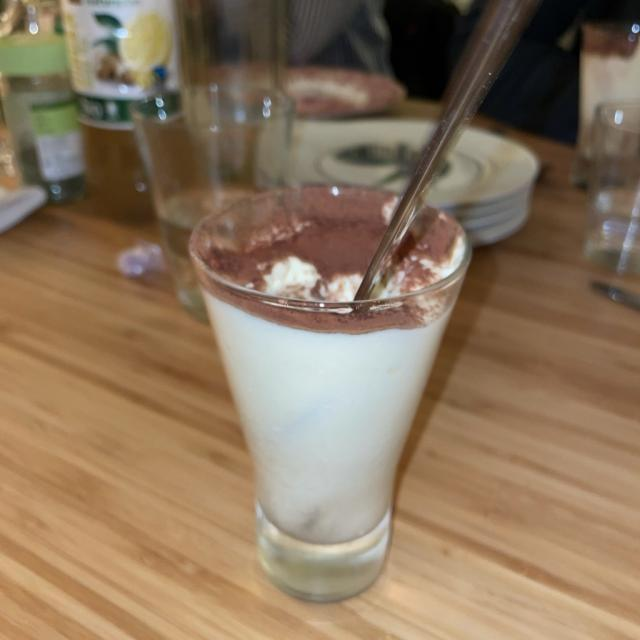tiramisu: (203, 239, 446, 574)
